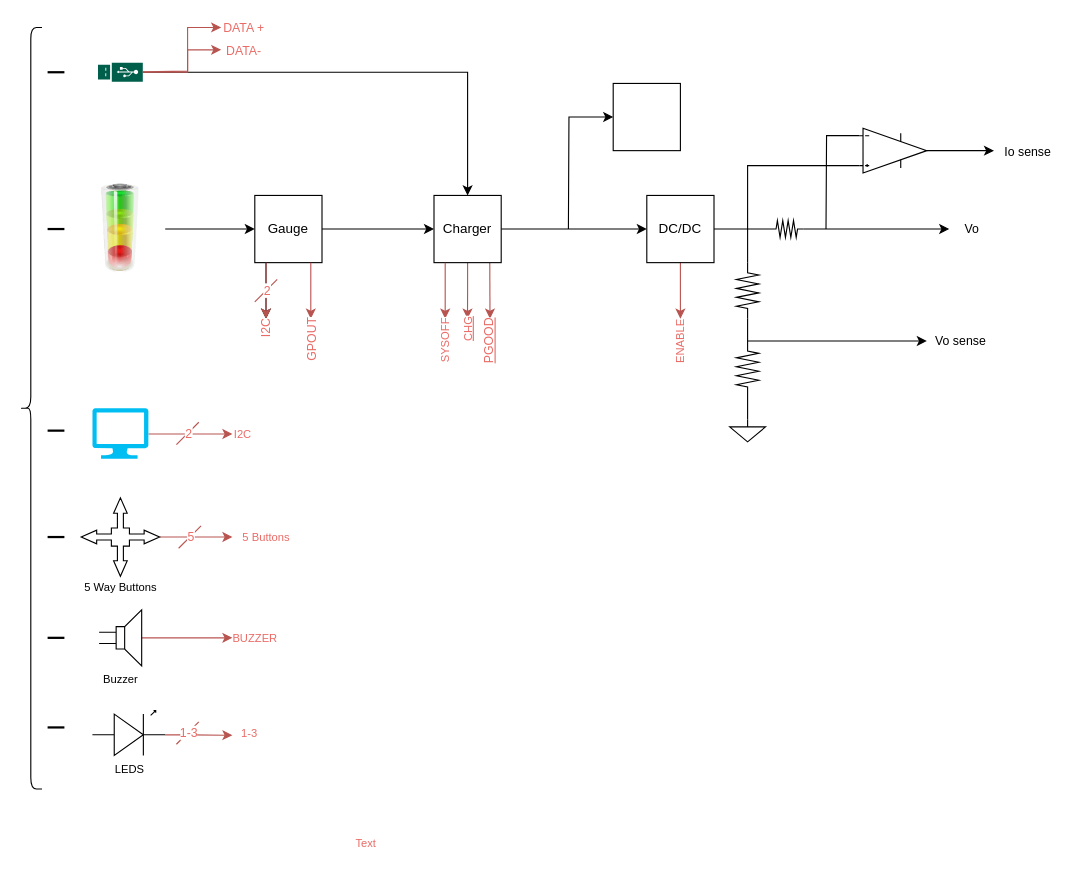
Some shapes in this 1071 by 874 pixel diagram are drawn without their labels. The shapes that lost their labels are listed below. From the top down, each one's centre as x and y in pixels, then its label:
[646,116]: LDO
[120,228]: Bateria
[120,433]: Display
